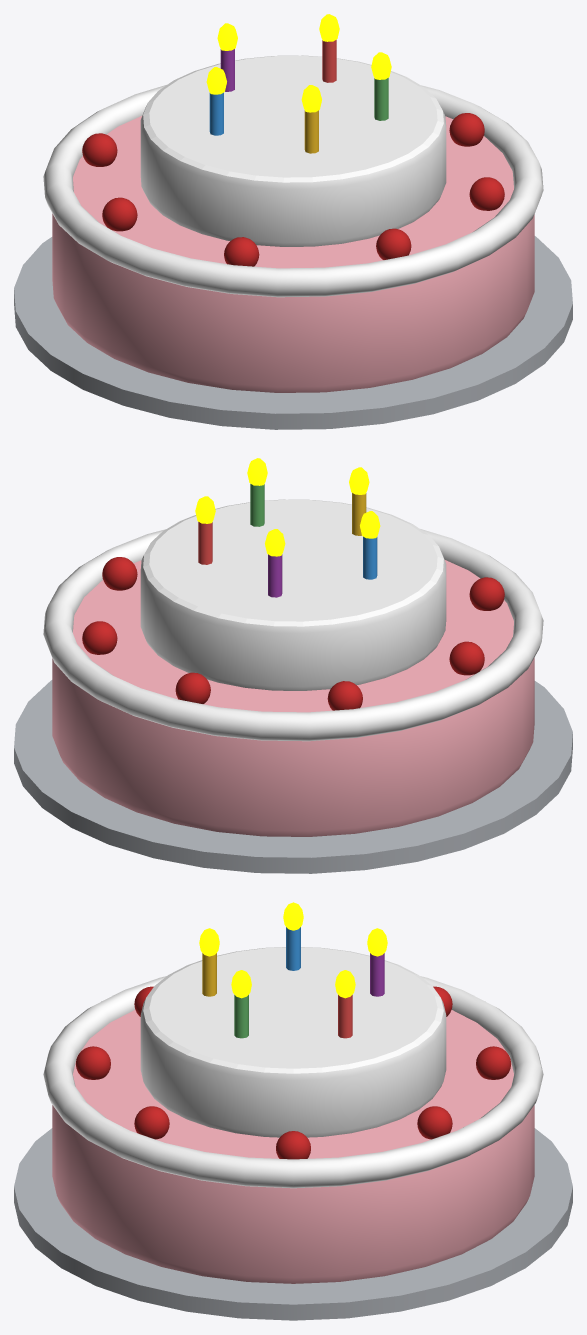
The model's file is cake.fbx.
3 renders of one model, top to bottom at view 1: azimuth 30°, elevation 25°; view 2: azimuth 150°, elevation 25°; view 3: azimuth 270°, elevation 25°, orthographic.
Parts seen in each view (by area): view 1: Birthday Cake; view 2: Birthday Cake; view 3: Birthday Cake.
Part boxes in pixels (x1,y1,x2,y2): Birthday Cake: (14,14,572,429); Birthday Cake: (14,458,572,873); Birthday Cake: (14,902,572,1320).
Size of the model in its own units: 1.9 by 0.986 by 1.9.
